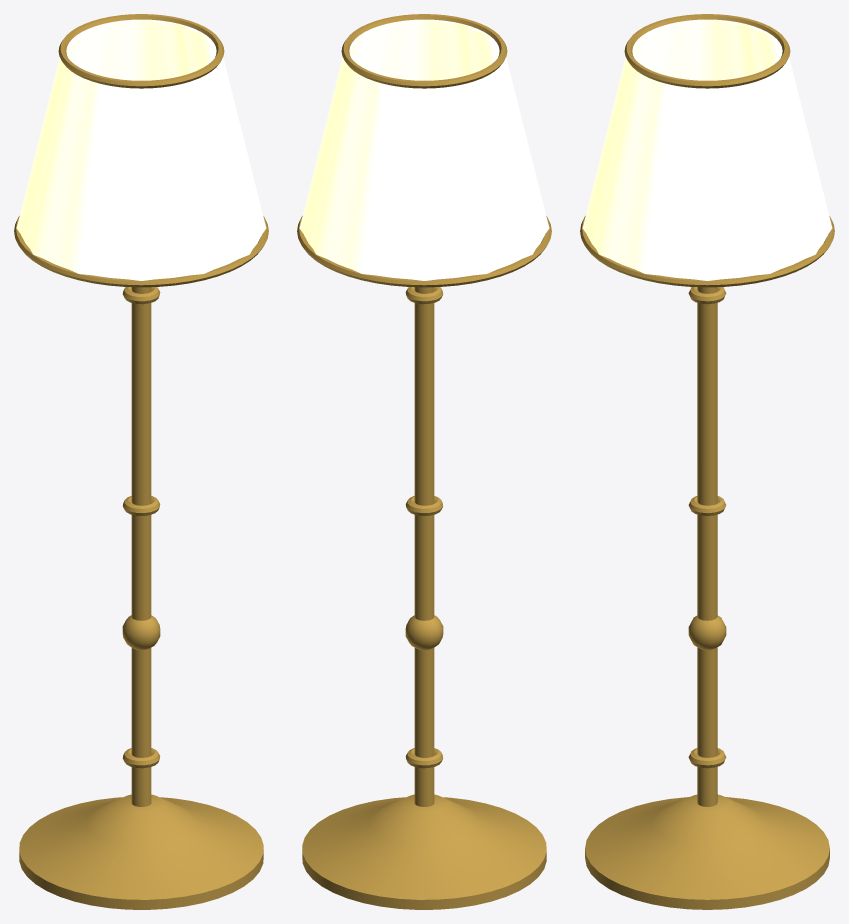
Rendered from lamp_floor.glb.
The picture shows the model from 3 angles, left to right: view 1: azimuth 30°, elevation 25°; view 2: azimuth 150°, elevation 25°; view 3: azimuth 270°, elevation 25°; orthographic projection.
Visible parts, largest first — view 1: lamp_floor; view 2: lamp_floor; view 3: lamp_floor.
Part boxes in pixels (x1,y1,x2,y2): lamp_floor: (14,14,268,909); lamp_floor: (297,14,551,909); lamp_floor: (580,14,834,909).
Bounding box in the file's own units: 0.458 × 1.61 × 0.458.
